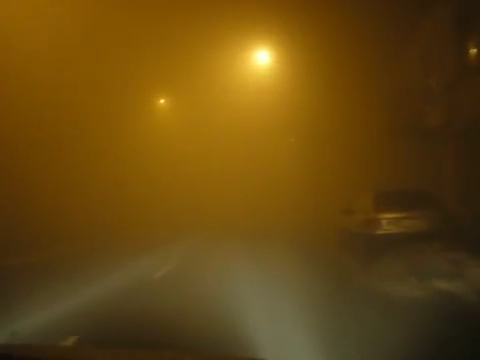car: (337, 187, 446, 261)
